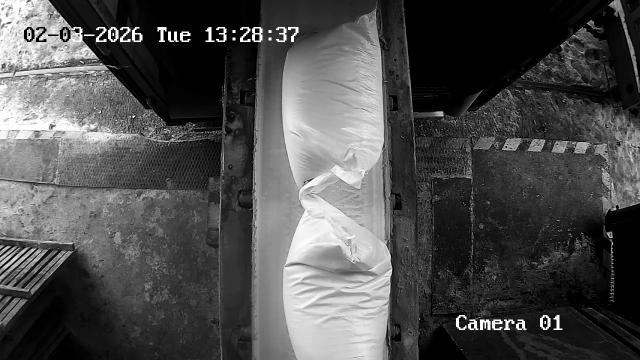bag: (282, 10, 382, 195), (282, 195, 392, 360)
